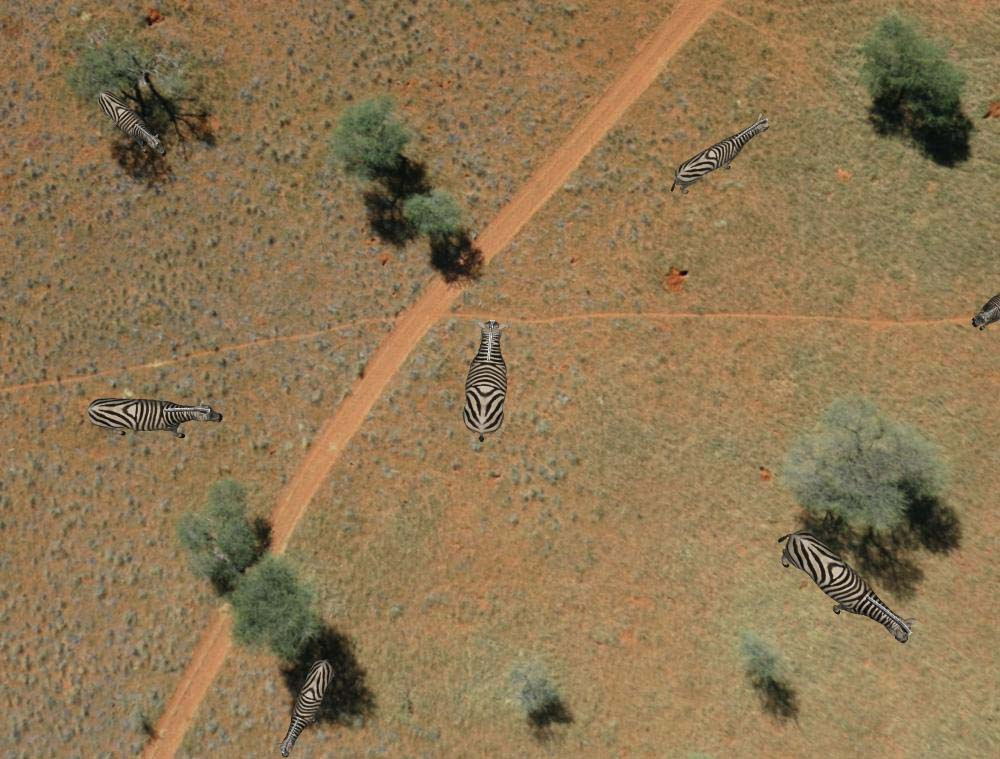zebra: (775, 526, 915, 643), (671, 113, 775, 199), (85, 386, 225, 443), (463, 313, 510, 443), (279, 656, 333, 759), (98, 88, 171, 164), (972, 285, 1000, 343)
